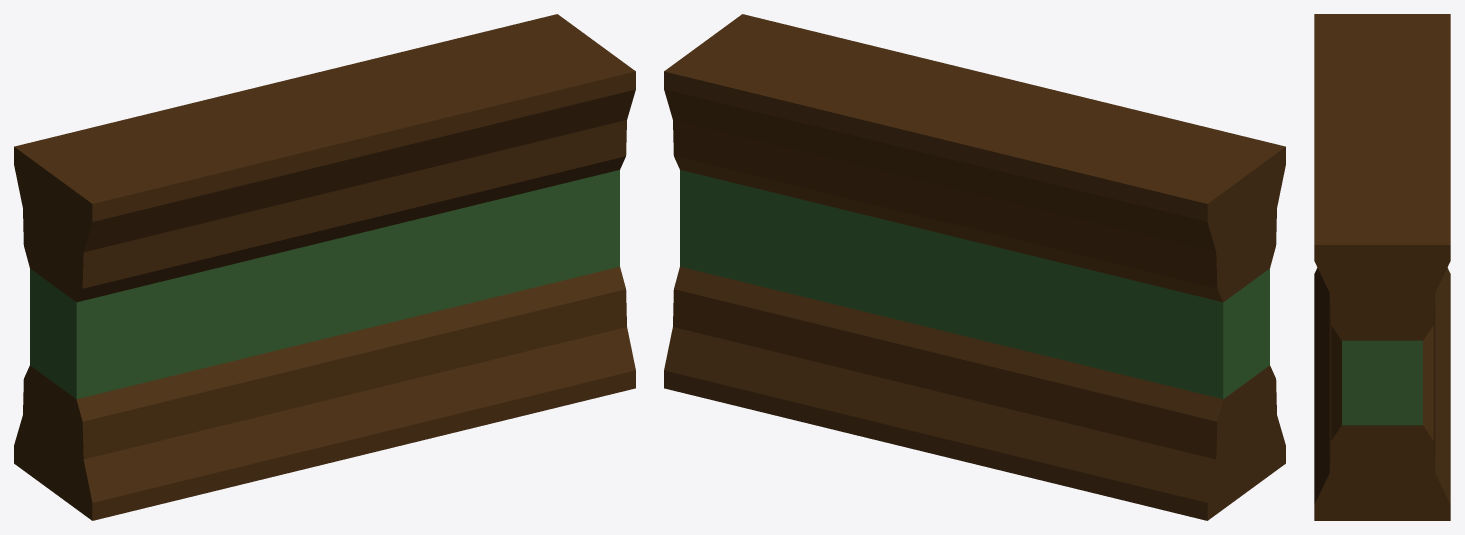
File: baseWall_half_GEO.fbx
3 renders of one model, left to right at view 1: azimuth 30°, elevation 25°; view 2: azimuth 150°, elevation 25°; view 3: azimuth 270°, elevation 25°, orthographic. The views are drawn at different scales.
Visible parts, largest first — view 1: wallBase_demi; view 2: wallBase_demi; view 3: wallBase_demi.
Boxes of the visible parts, x1,y1,x2,y2 form: wallBase_demi: (14,14,635,520); wallBase_demi: (664,14,1285,520); wallBase_demi: (1314,14,1450,520).
Bounding box in the file's own units: 200 × 111 × 50.
